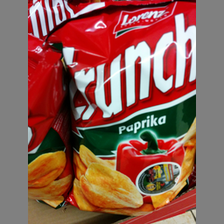chips: (54, 7, 196, 215)
